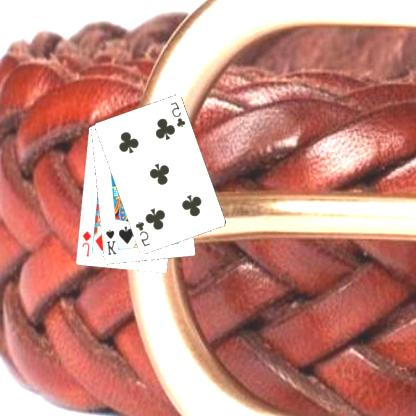5C: (169, 99, 188, 129), (134, 219, 153, 248)
JD: (81, 228, 94, 258)
KS: (104, 226, 120, 256)
